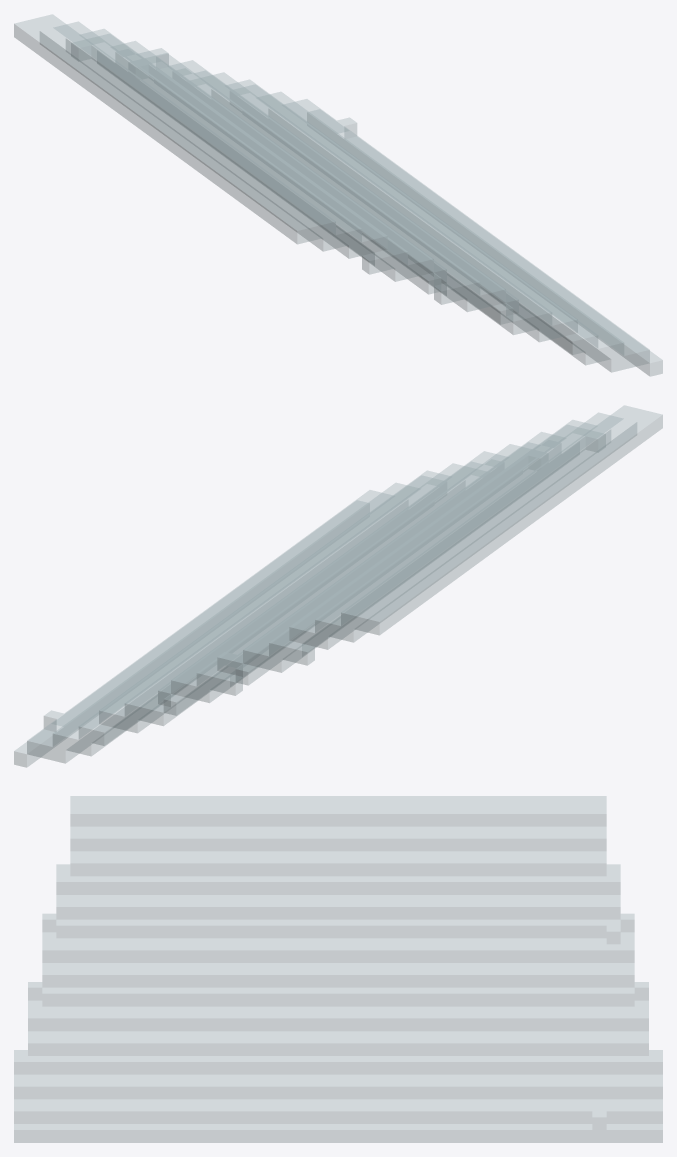
Rendered from taxi_windscreen.glb.
3 renders of one model, top to bottom at view 1: azimuth 30°, elevation 25°; view 2: azimuth 150°, elevation 25°; view 3: azimuth 270°, elevation 25°, orthographic. The views are drawn at different scales.
Visible parts, largest first — view 1: body:compound; view 2: body:compound; view 3: body:compound.
Boxes of the visible parts, x1,y1,x2,y2 form: body:compound: (14, 14, 662, 376); body:compound: (14, 405, 662, 767); body:compound: (14, 796, 662, 1142).
Size of the model in its own units: 0.8125 by 0.4688 by 1.44.
